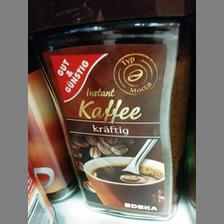Kaffee: (27, 0, 192, 218)
